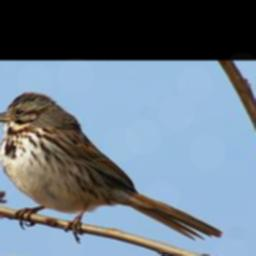Sparrow: (0, 91, 226, 243)
